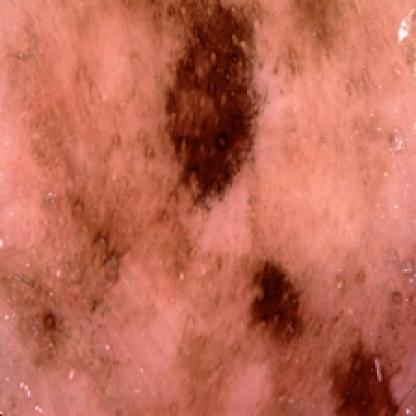Skin_Cancer-Malignant: (242, 258, 416, 416), (150, 0, 267, 212)
